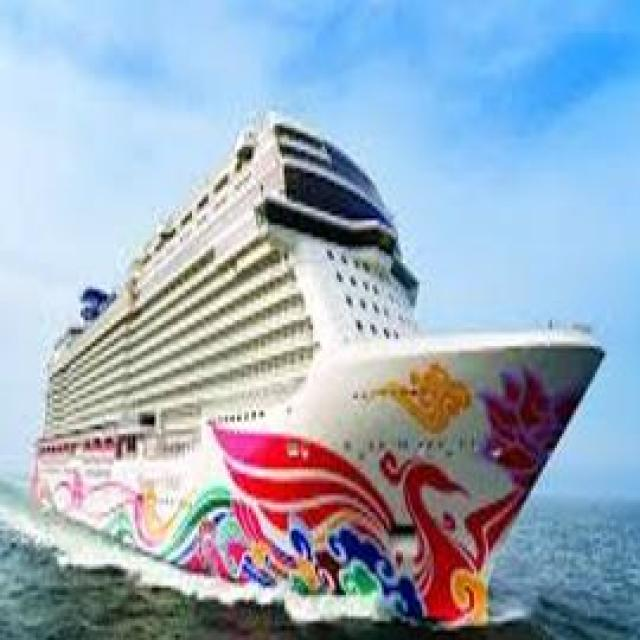passenger ship: (21, 101, 609, 625)
